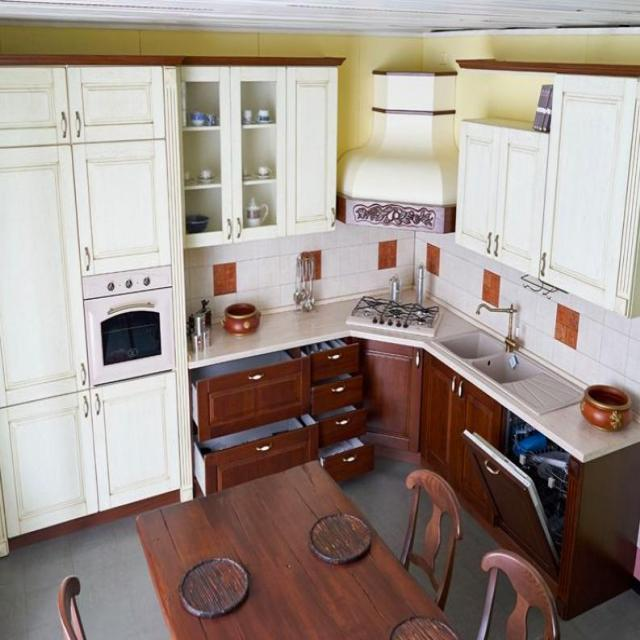dishwasher: (462, 407, 572, 581)
